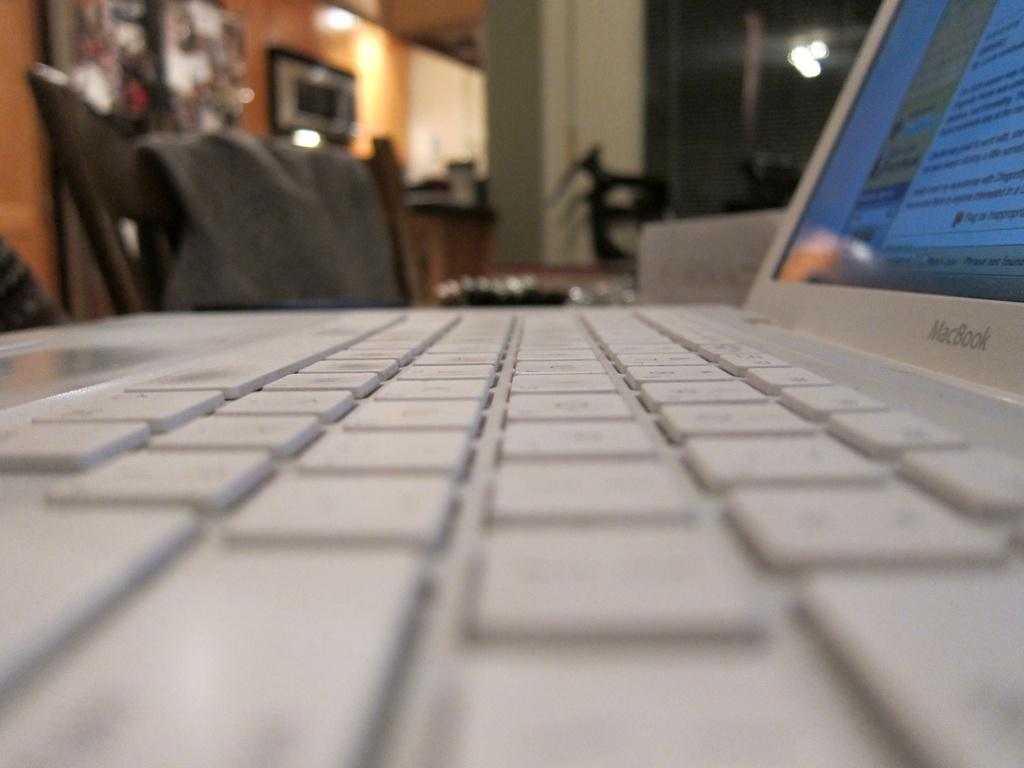Computer-keyboard: (3, 308, 1023, 767)
